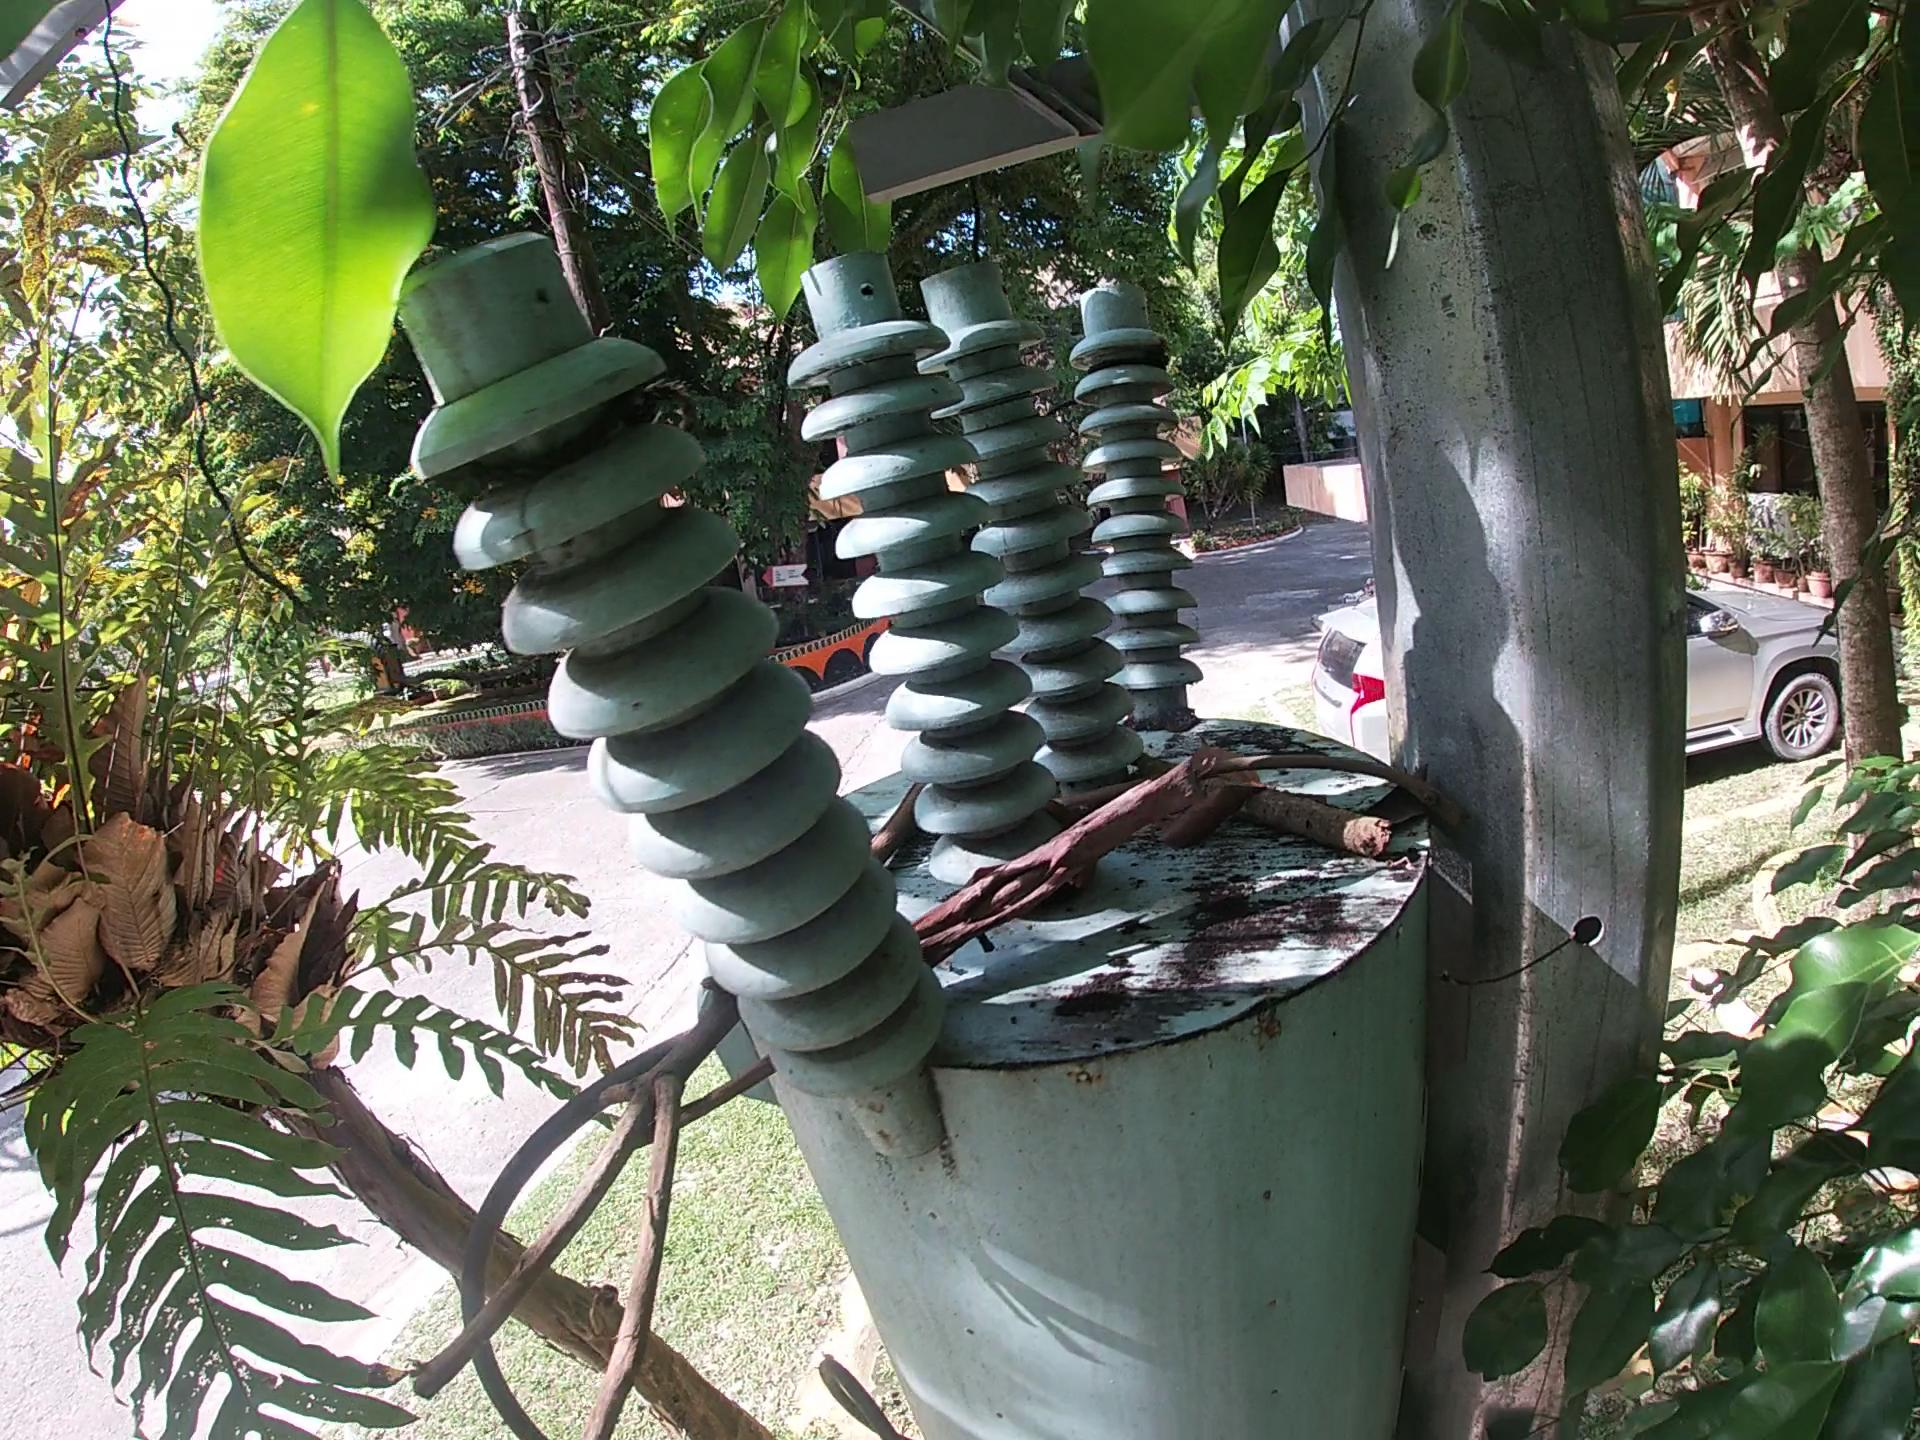leaf: (1158, 779, 1259, 852), (1362, 761, 1438, 827)
tree branch: (399, 980, 759, 1440), (906, 756, 1206, 974), (1061, 749, 1479, 832), (1132, 750, 1386, 855), (635, 1057, 785, 1147), (871, 776, 928, 870)
